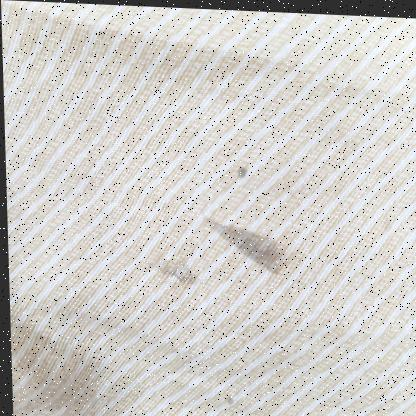spot: (200, 203, 314, 289), (136, 244, 206, 288), (216, 384, 238, 409), (227, 162, 257, 179)
